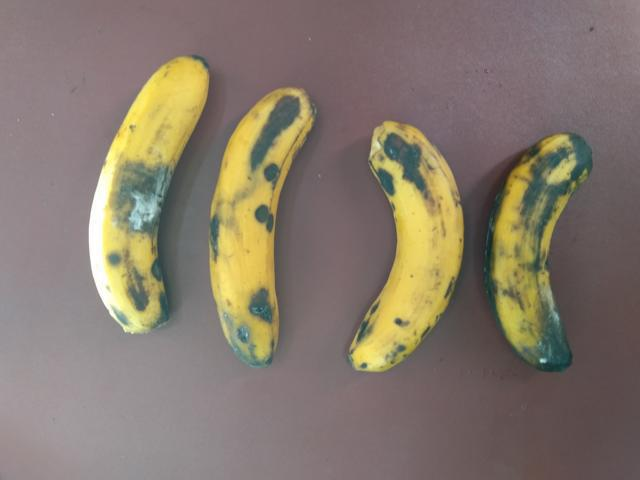overripe: (182, 72, 335, 376), (338, 113, 461, 381)
rotten: (69, 39, 215, 357), (479, 113, 613, 424)
